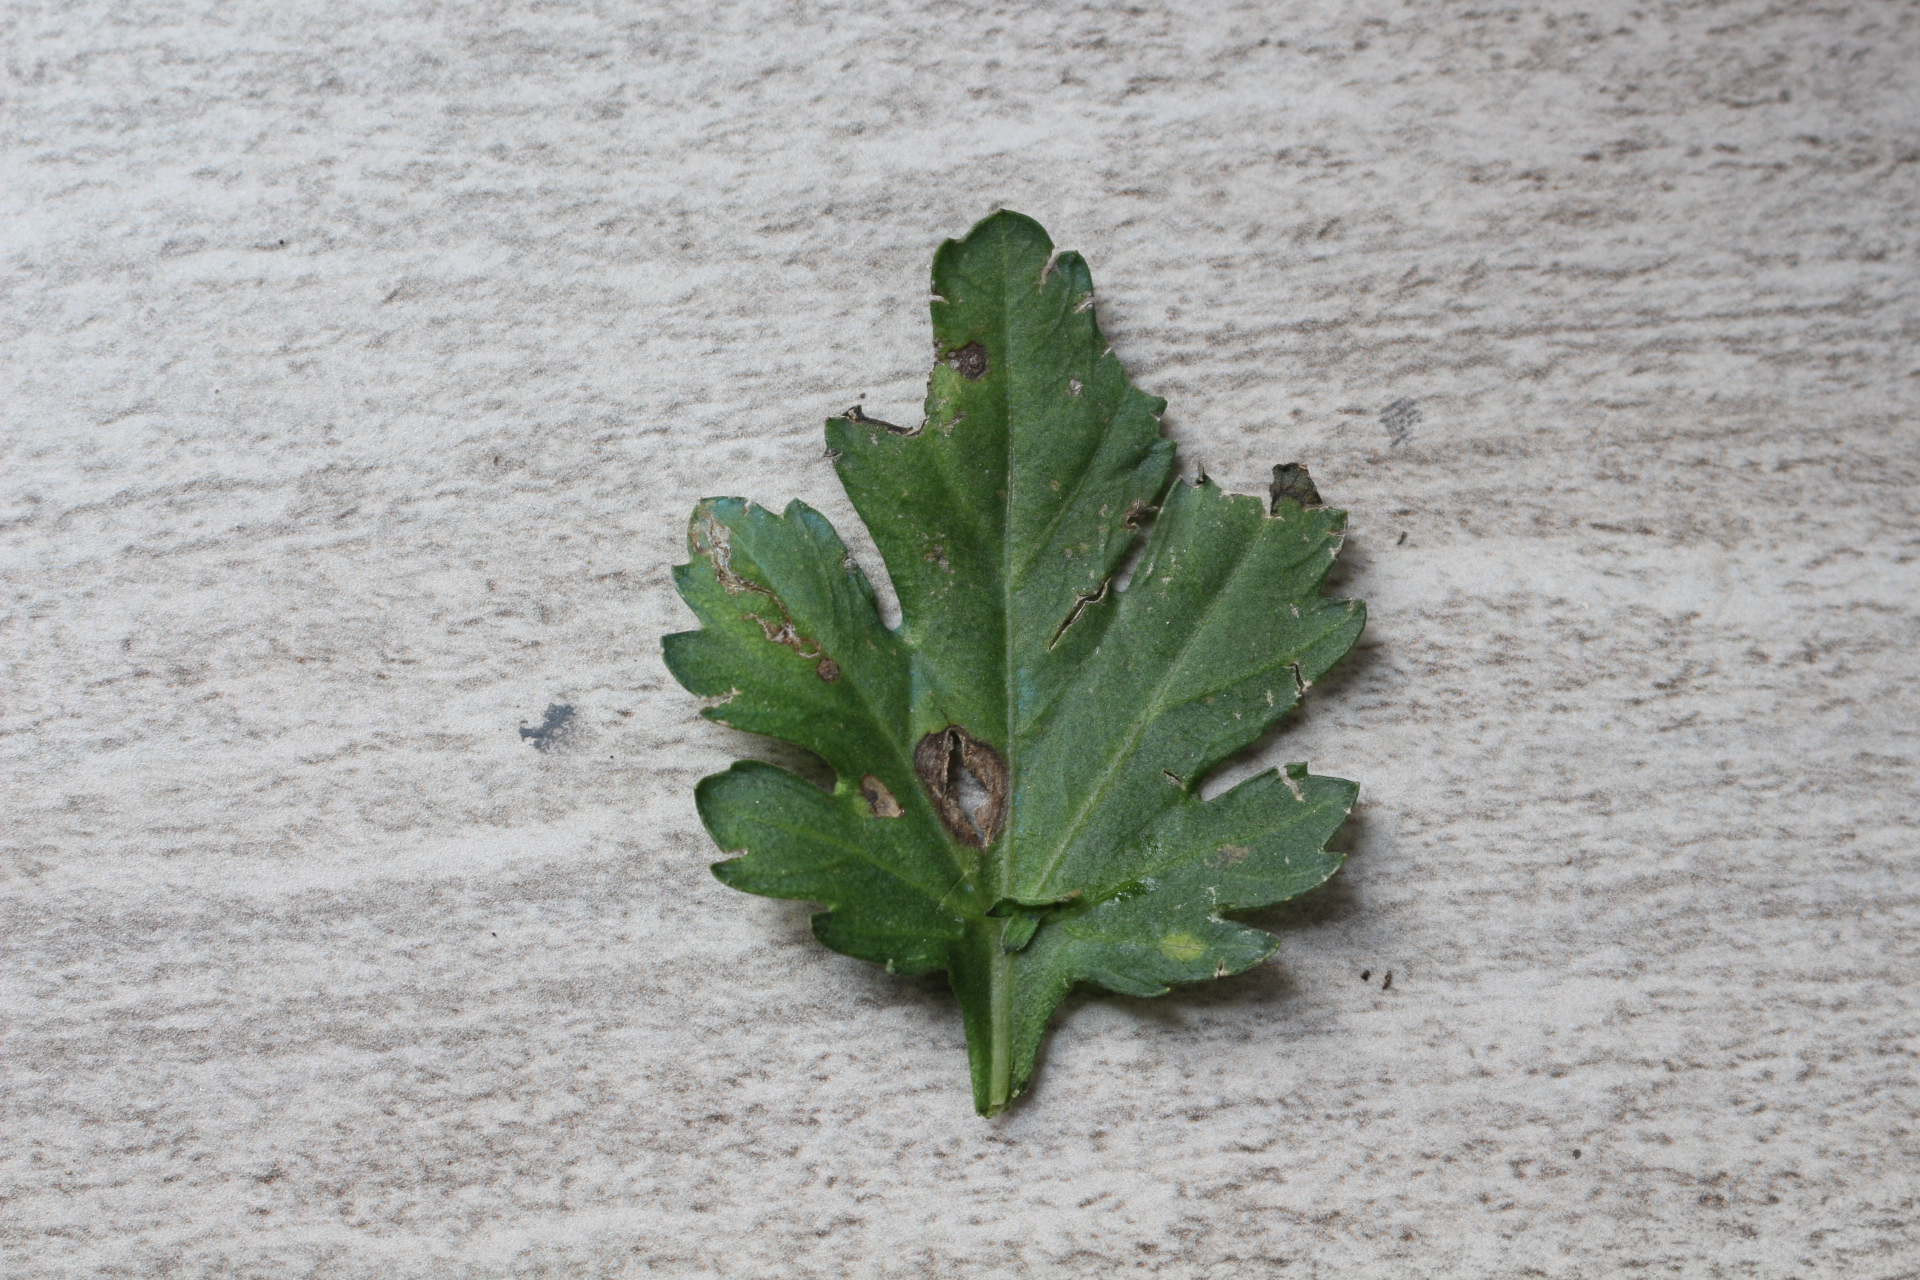namden: (953, 340, 991, 386), (814, 660, 846, 683)
